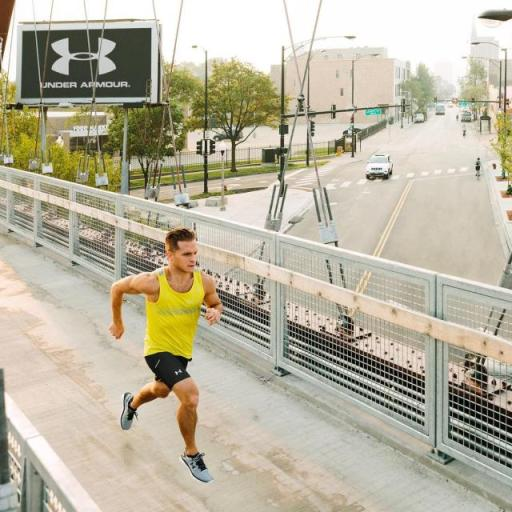Under Armour: (24, 26, 148, 99)
